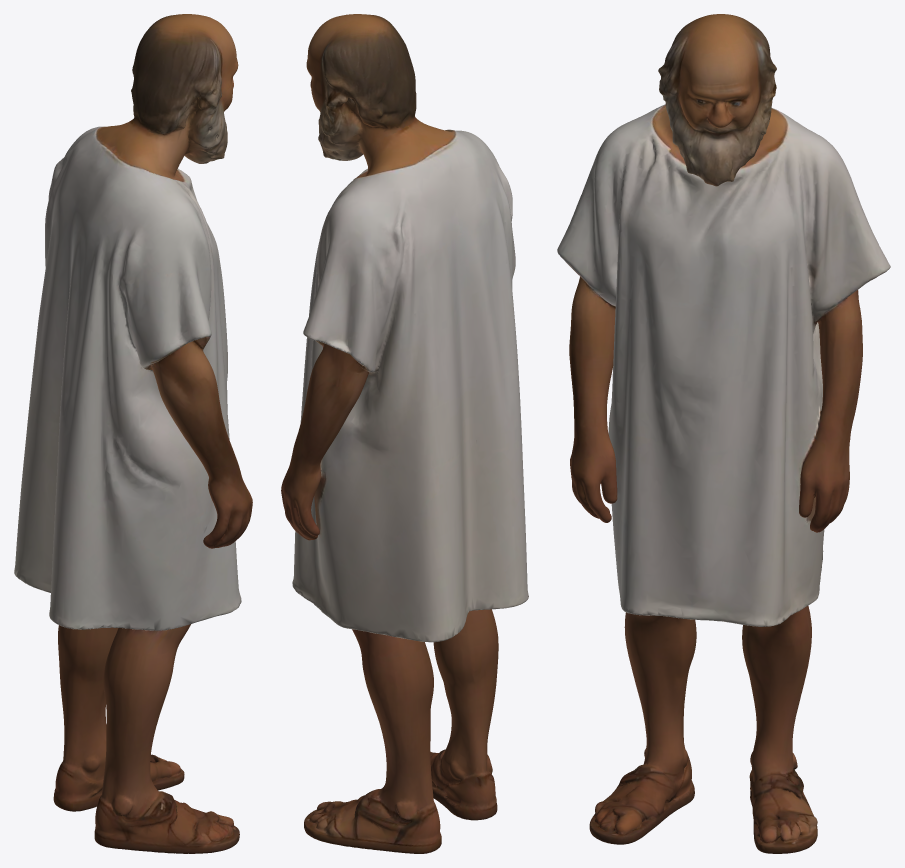
The model's file is socrates.glb.
3 views of the same model, side by side, from view 1: azimuth 30°, elevation 25°; view 2: azimuth 150°, elevation 25°; view 3: azimuth 270°, elevation 25° (orthographic). The views are drawn at different scales.
Parts seen in each view (by area): view 1: tripo_node_2a6a8beb-7b5e-45a1-a623-35d8b097bb0a; view 2: tripo_node_2a6a8beb-7b5e-45a1-a623-35d8b097bb0a; view 3: tripo_node_2a6a8beb-7b5e-45a1-a623-35d8b097bb0a.
Boxes of the visible parts, x1,y1,x2,y2 form: tripo_node_2a6a8beb-7b5e-45a1-a623-35d8b097bb0a: (14, 14, 252, 853); tripo_node_2a6a8beb-7b5e-45a1-a623-35d8b097bb0a: (281, 14, 528, 853); tripo_node_2a6a8beb-7b5e-45a1-a623-35d8b097bb0a: (557, 14, 890, 853).
Size of the model in its own units: 0.2619 by 1 by 0.3666.
1 material, 1 textured.
